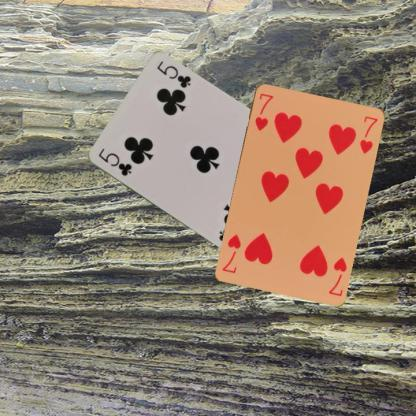5c: (96, 146, 132, 178)
7h: (326, 254, 348, 298), (252, 90, 274, 132)
